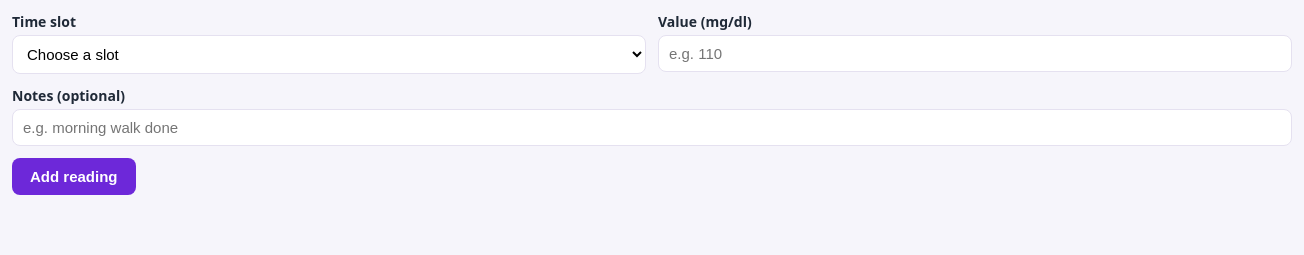
Test case: ReadingForm › empty value shows "Please enter a glucose value." and does not save
Select "Morning (fasting)" in the dropdown labelled "Time slot" at coordinates (329, 54), box [12,35,646,74]
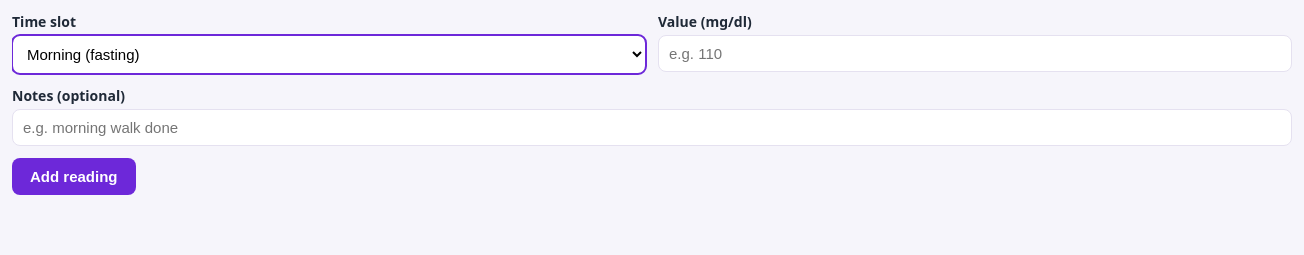
Click the button "Add reading" at coordinates (74, 176), box [12,158,136,195]
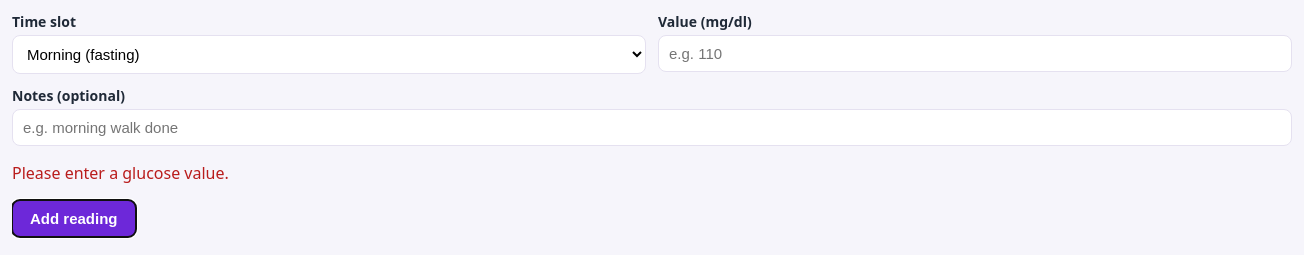
Expected: the message reads "Please enter a glucose value.", [12,162,229,184]
